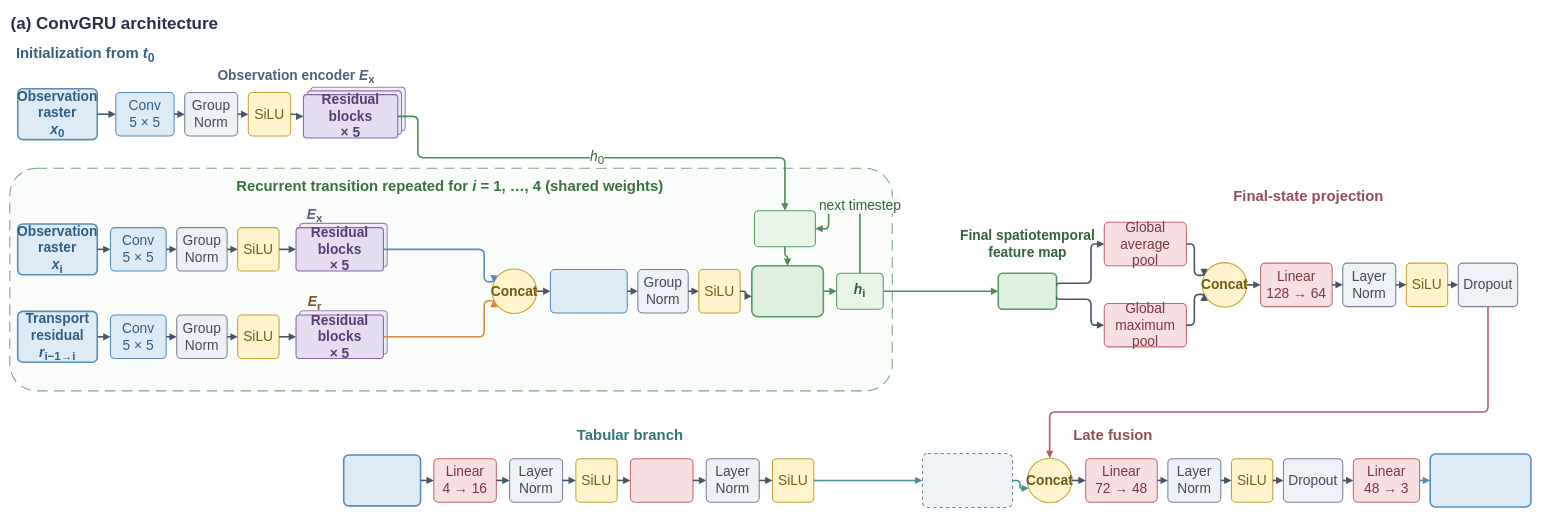
Image size: 1541x517. Some labels were removed from this diagram. Each missing label, with the centre of its shape:
"Branch dropout (training only)" goes at pixel 967 480.
"Class Prediction" goes at pixel 1480 480.
"Conv 1 × 1 128 → 64" goes at pixel 589 291.
"ConvGRU cell" goes at pixel 787 291.
"h 4" goes at pixel 1027 291.
"h i−1" goes at pixel 785 228.
"Linear 16 → 8" goes at pixel 661 480.
"Tabular features" goes at pixel 382 480.
